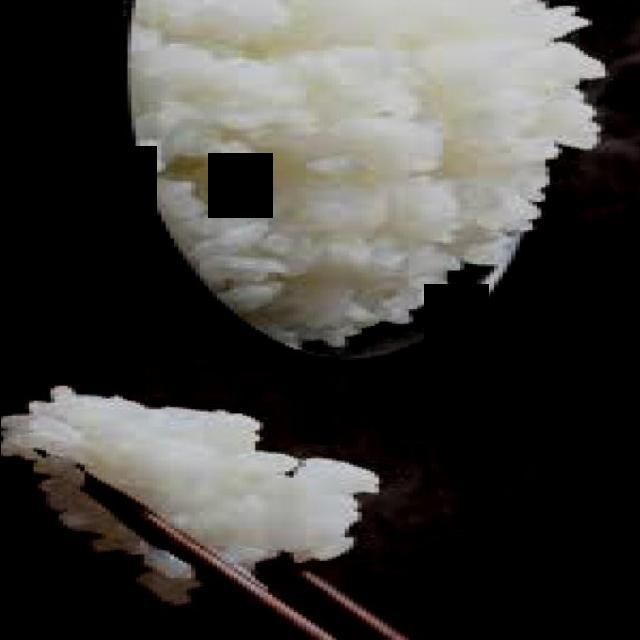rice: (128, 0, 606, 343)
